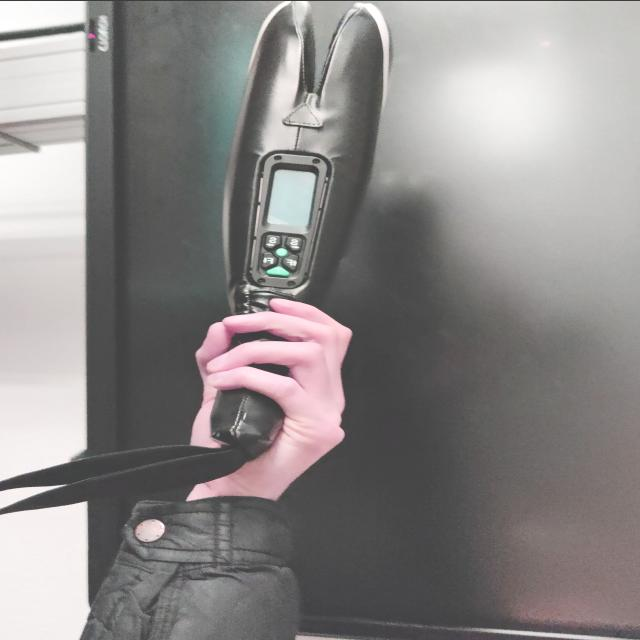paddle: (209, 0, 400, 443)
